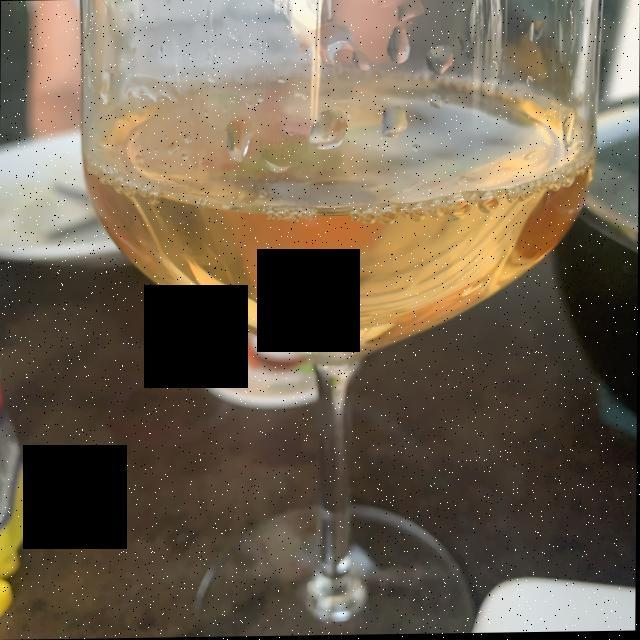wine: (93, 79, 583, 349)
